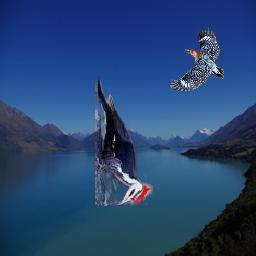Woodpecker: (95, 76, 153, 206), (170, 27, 225, 91)
